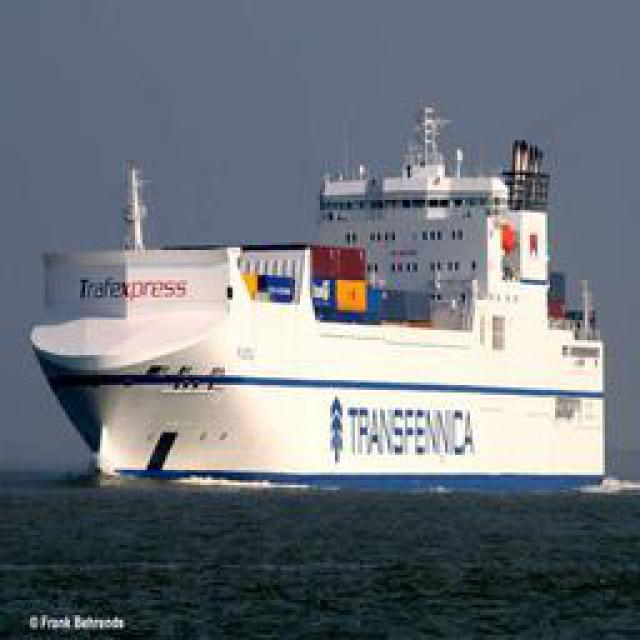Ship: (26, 110, 616, 495)
